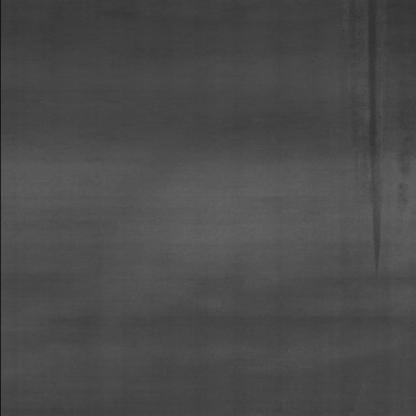crease: (338, 2, 394, 273)
